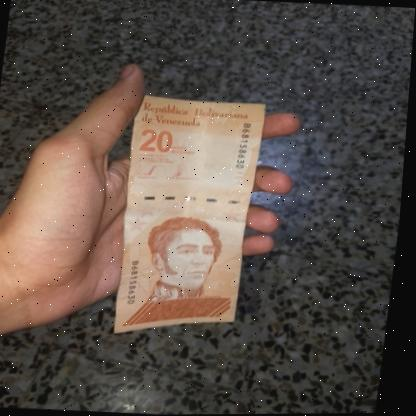twenty-front-vef: (112, 93, 268, 339)
